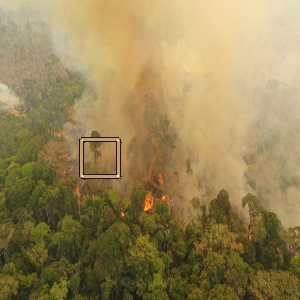square: (77, 135, 123, 181)
